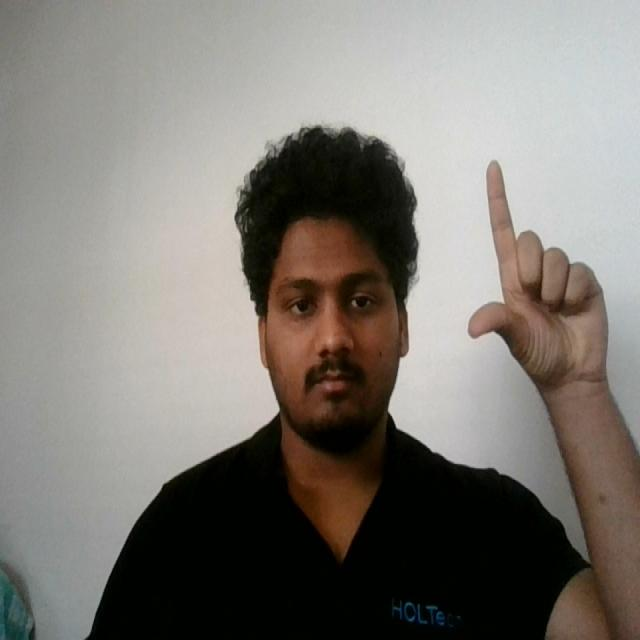IloveYou: (460, 153, 616, 410)
